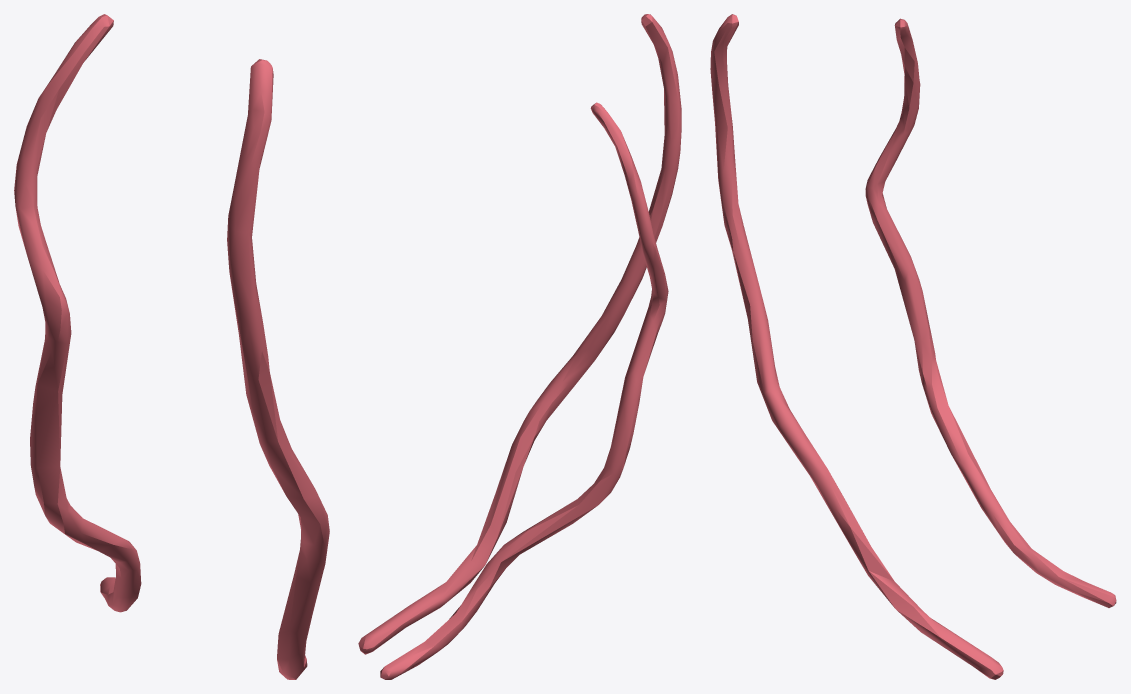
The model's file is fma51635_fj5034.glb.
The picture shows the model from 3 angles, left to right: view 1: azimuth 30°, elevation 25°; view 2: azimuth 150°, elevation 25°; view 3: azimuth 270°, elevation 25°; orthographic projection. The views are drawn at different scales.
Parts seen in each view (by area): view 1: FMA51635_FJ5034; view 2: FMA51635_FJ5034; view 3: FMA51635_FJ5034.
Part boxes in pixels (box(x1,y1,x2,y2)): FMA51635_FJ5034: box(14, 14, 329, 679); FMA51635_FJ5034: box(358, 14, 681, 679); FMA51635_FJ5034: box(710, 14, 1116, 679).
Size of the model in its own units: 0.0131 by 0.0286 by 0.0179.
